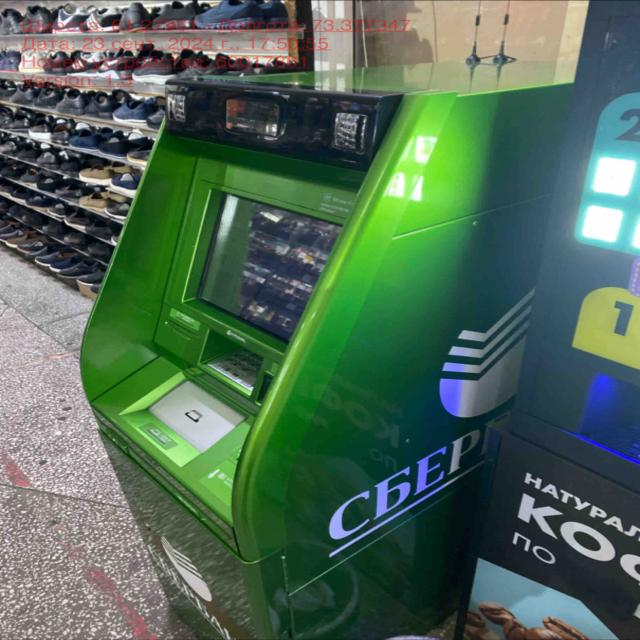bank: (79, 59, 580, 640)
